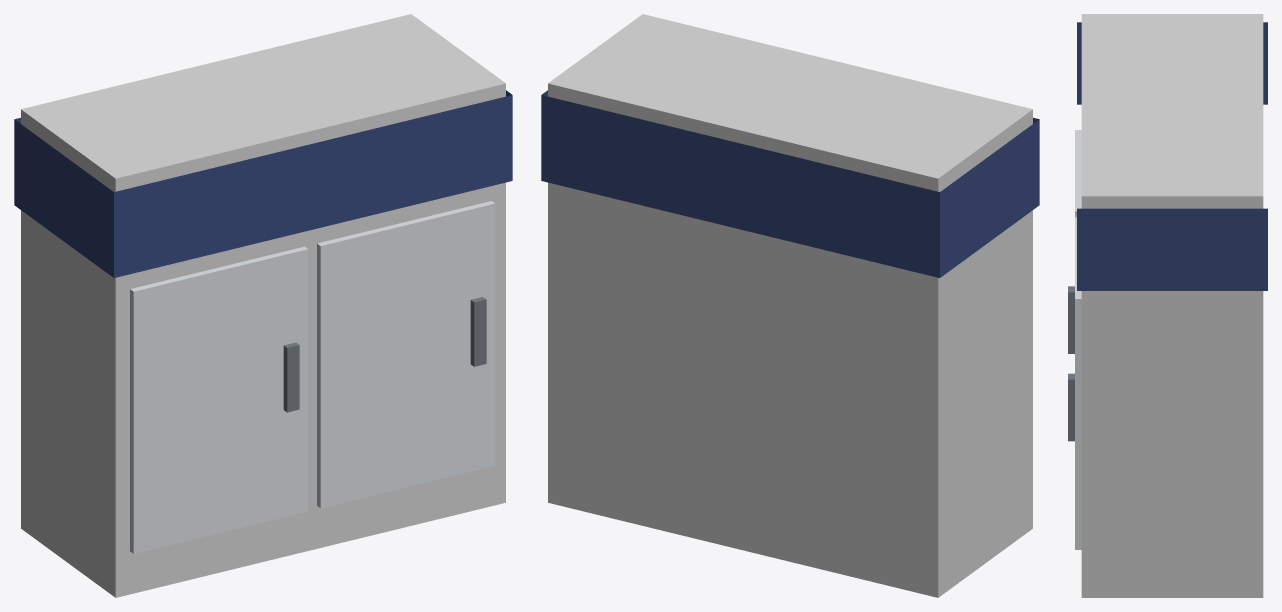
Rendered from site_clutter1.fbx.
3 views of the same model, side by side, from view 1: azimuth 30°, elevation 25°; view 2: azimuth 150°, elevation 25°; view 3: azimuth 270°, elevation 25° (orthographic). The views are drawn at different scales.
Visible parts, largest first — view 1: a2020/0/site_clutter1; view 2: a2020/0/site_clutter1; view 3: a2020/0/site_clutter1.
Part boxes in pixels (x1,y1,x2,y2): a2020/0/site_clutter1: (14, 14, 512, 597); a2020/0/site_clutter1: (541, 14, 1039, 597); a2020/0/site_clutter1: (1068, 14, 1267, 597).
Size of the model in its own units: 1.94 by 1.95 by 0.88.
